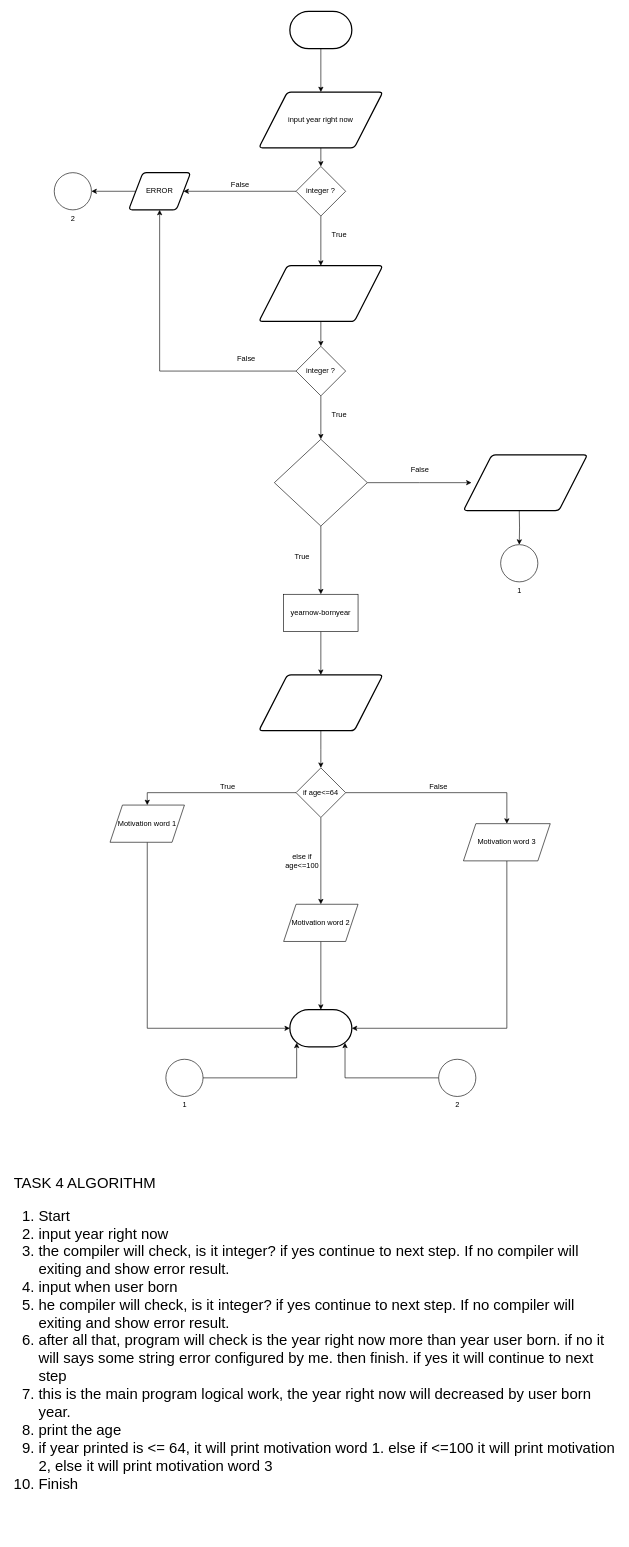
Some shapes in this 629 by 1547 pixel diagram are drawn without their labels. The shapes that lost their labels are listed below. From the top down, each one's centre as x and y in pixels, then its label:
At (320,30): "START".
At (320,293): "input year born".
At (320,482): "if yearnow>bornyear".
At (525,482): "time traveler!".
At (320,702): "age".
At (320,1028): "FINISH".
